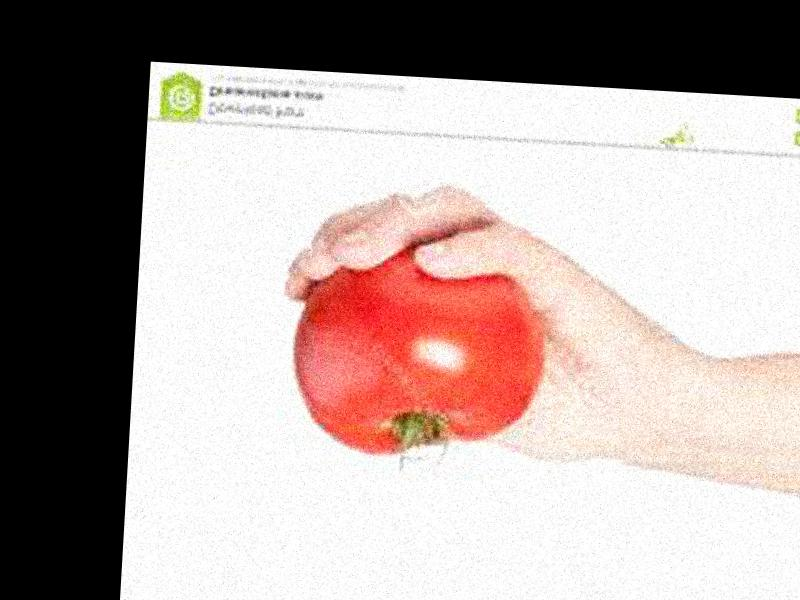Tomato: (287, 240, 553, 466)
